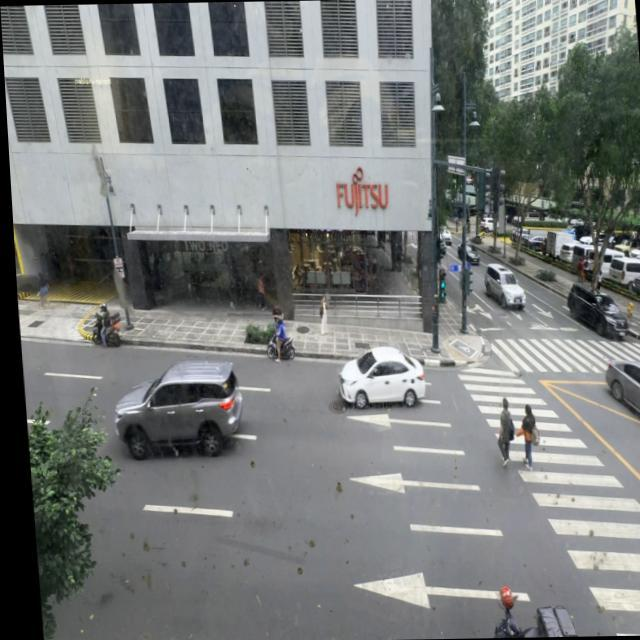jaywalking: (495, 396, 517, 466)
